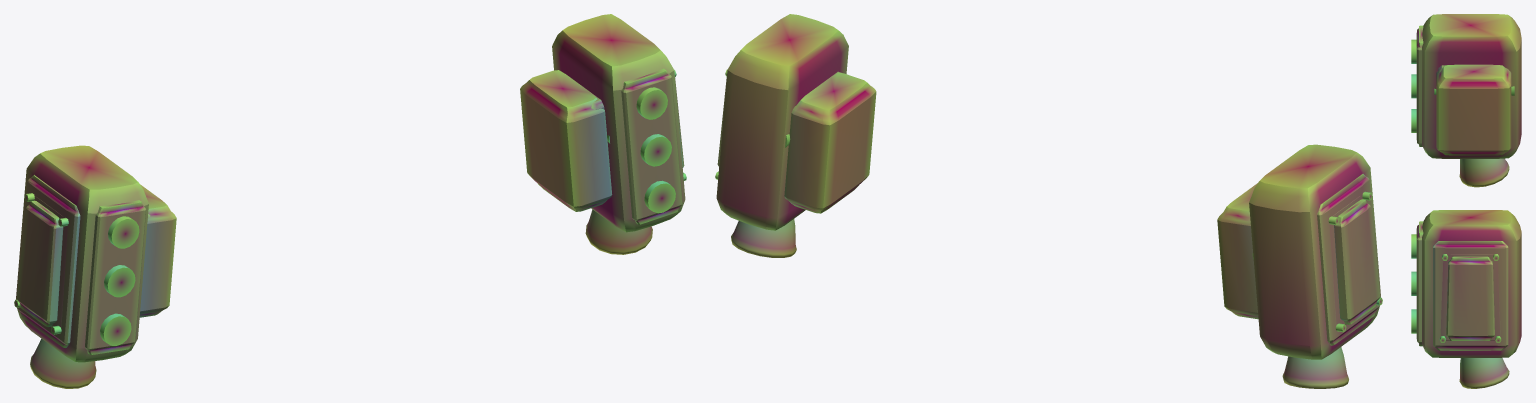
The model's file is llm_gen_leg_thrusters_074_646966.glb.
The picture shows the model from 3 angles, left to right: view 1: azimuth 30°, elevation 25°; view 2: azimuth 150°, elevation 25°; view 3: azimuth 270°, elevation 25°; orthographic projection. The views are drawn at different scales.
Parts seen in each view (by area): view 1: leg_missile_hull_0_zeon_olive_coat_r, adapter_calf_clamp_r, leg_missile_hull_0_zeon_olive_coat_l, leg_pod_armor_cover_6_adapter_dark_l, adapter_sub_missile_bezel_dark_1_adapter_dark_l, adapter_sub_missile_bezel_dark_1_adapter_dark_r, adapter_calf_clamp_l, adapter_sub_side_frame_dark_5_adapter_dark_l, leg_ankle_bell_7_vernier_bell_vernier_l, leg_ankle_bell_7_vernier_bell_vernier_r, leg_cell_top_2_era_block_r, leg_cell_top_2_era_block_l (+4 smaller); view 2: leg_missile_hull_0_zeon_olive_coat_r, leg_missile_hull_0_zeon_olive_coat_l, adapter_calf_clamp_r, leg_pod_armor_cover_6_adapter_dark_l, adapter_calf_clamp_l, adapter_sub_side_frame_dark_5_adapter_dark_l, leg_ankle_bell_7_vernier_bell_vernier_l, leg_ankle_bell_7_vernier_bell_vernier_r; view 3: leg_missile_hull_0_zeon_olive_coat_l, adapter_calf_clamp_l, leg_missile_hull_0_zeon_olive_coat_r, leg_pod_armor_cover_6_adapter_dark_r, adapter_sub_side_frame_dark_5_adapter_dark_r, leg_ankle_bell_7_vernier_bell_vernier_r, leg_ankle_bell_7_vernier_bell_vernier_l, adapter_sub_missile_bezel_dark_1_adapter_dark_r, adapter_sub_missile_bezel_dark_1_adapter_dark_l, leg_cell_top_2_era_block_r, leg_cell_top_2_era_block_l, leg_cell_mid_3_era_block_r (+3 smaller).
Part boxes in pixels (box(x1,y1,x2,y2)): leg_missile_hull_0_zeon_olive_coat_r: box(552, 14, 685, 232); adapter_calf_clamp_r: box(520, 70, 612, 211); leg_missile_hull_0_zeon_olive_coat_l: box(16, 145, 148, 362); leg_pod_armor_cover_6_adapter_dark_l: box(14, 193, 68, 334); adapter_sub_missile_bezel_dark_1_adapter_dark_l: box(85, 200, 146, 354); adapter_sub_missile_bezel_dark_1_adapter_dark_r: box(621, 68, 682, 224); adapter_calf_clamp_l: box(139, 184, 176, 317); adapter_sub_side_frame_dark_5_adapter_dark_l: box(17, 175, 80, 347); leg_ankle_bell_7_vernier_bell_vernier_l: box(30, 338, 96, 388); leg_ankle_bell_7_vernier_bell_vernier_r: box(585, 209, 652, 254); leg_cell_top_2_era_block_r: box(636, 87, 667, 119); leg_cell_top_2_era_block_l: box(108, 216, 139, 248); leg_missile_hull_0_zeon_olive_coat_r: box(716, 14, 848, 230); leg_missile_hull_0_zeon_olive_coat_l: box(1249, 144, 1380, 359); adapter_calf_clamp_r: box(784, 72, 876, 213); leg_pod_armor_cover_6_adapter_dark_l: box(1328, 191, 1382, 332); adapter_calf_clamp_l: box(1217, 183, 1258, 319); adapter_sub_side_frame_dark_5_adapter_dark_l: box(1317, 174, 1379, 345); leg_ankle_bell_7_vernier_bell_vernier_l: box(1282, 347, 1348, 388); leg_ankle_bell_7_vernier_bell_vernier_r: box(731, 219, 796, 257); leg_missile_hull_0_zeon_olive_coat_l: box(1422, 14, 1521, 158); adapter_calf_clamp_l: box(1436, 64, 1511, 155); leg_missile_hull_0_zeon_olive_coat_r: box(1422, 210, 1521, 357); leg_pod_armor_cover_6_adapter_dark_r: box(1439, 254, 1501, 342); adapter_sub_side_frame_dark_5_adapter_dark_r: box(1433, 241, 1508, 350); leg_ankle_bell_7_vernier_bell_vernier_r: box(1459, 358, 1509, 388); leg_ankle_bell_7_vernier_bell_vernier_l: box(1459, 158, 1509, 187); adapter_sub_missile_bezel_dark_1_adapter_dark_r: box(1416, 221, 1423, 346); adapter_sub_missile_bezel_dark_1_adapter_dark_l: box(1416, 25, 1423, 146); leg_cell_top_2_era_block_r: box(1411, 234, 1416, 258); leg_cell_top_2_era_block_l: box(1411, 39, 1416, 63); leg_cell_mid_3_era_block_r: box(1411, 271, 1416, 295).
Size of the model in its own units: 81.56 by 26.26 by 16.2.
